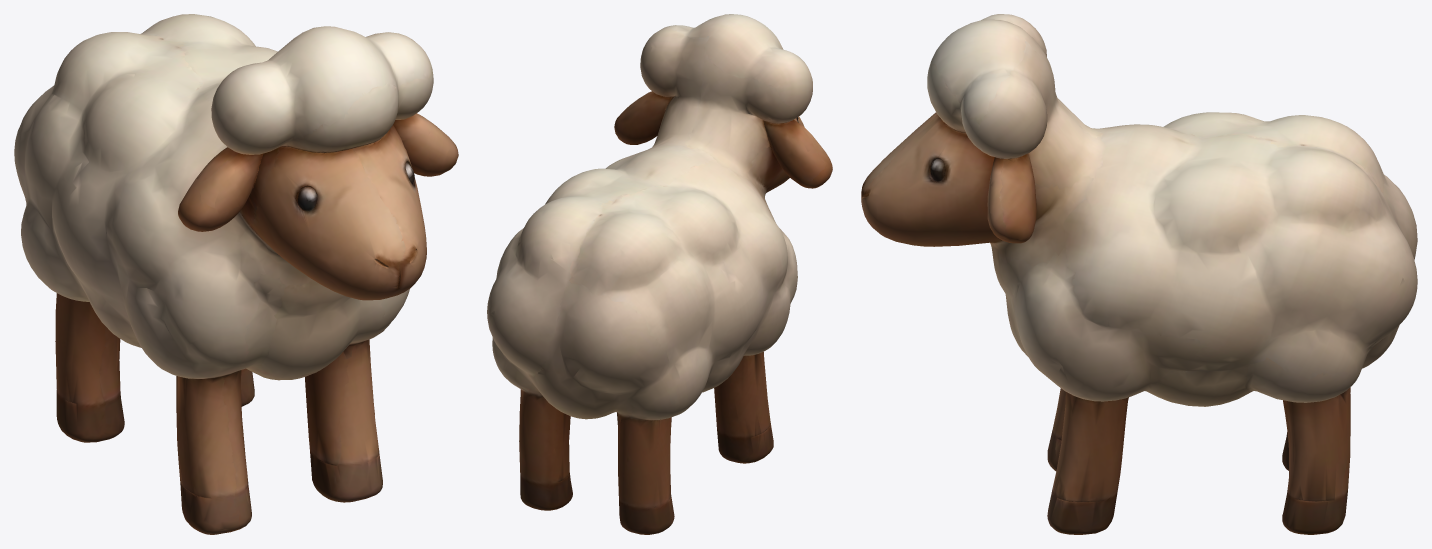
Rendered from sheep_pbr.glb.
The picture shows the model from 3 angles, left to right: view 1: azimuth 30°, elevation 25°; view 2: azimuth 150°, elevation 25°; view 3: azimuth 270°, elevation 25°; orthographic projection. The views are drawn at different scales.
Visible parts, largest first — view 1: model; view 2: model; view 3: model.
Part boxes in pixels (left/top/right/bottom): model: left=14, top=14, right=458, bottom=534; model: left=487, top=14, right=832, bottom=534; model: left=861, top=14, right=1417, bottom=534.
Bounding box in the file's own units: 0.9831 × 1.72 × 1.84.
1 material, 1 textured.
